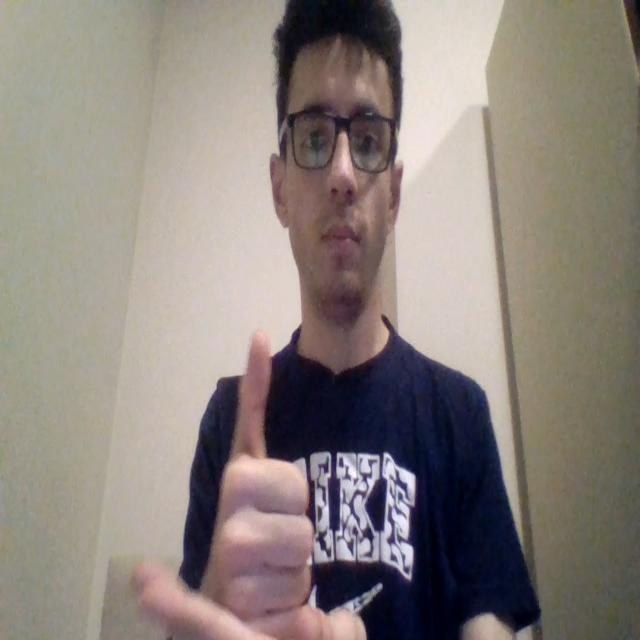help: (130, 326, 348, 640)
